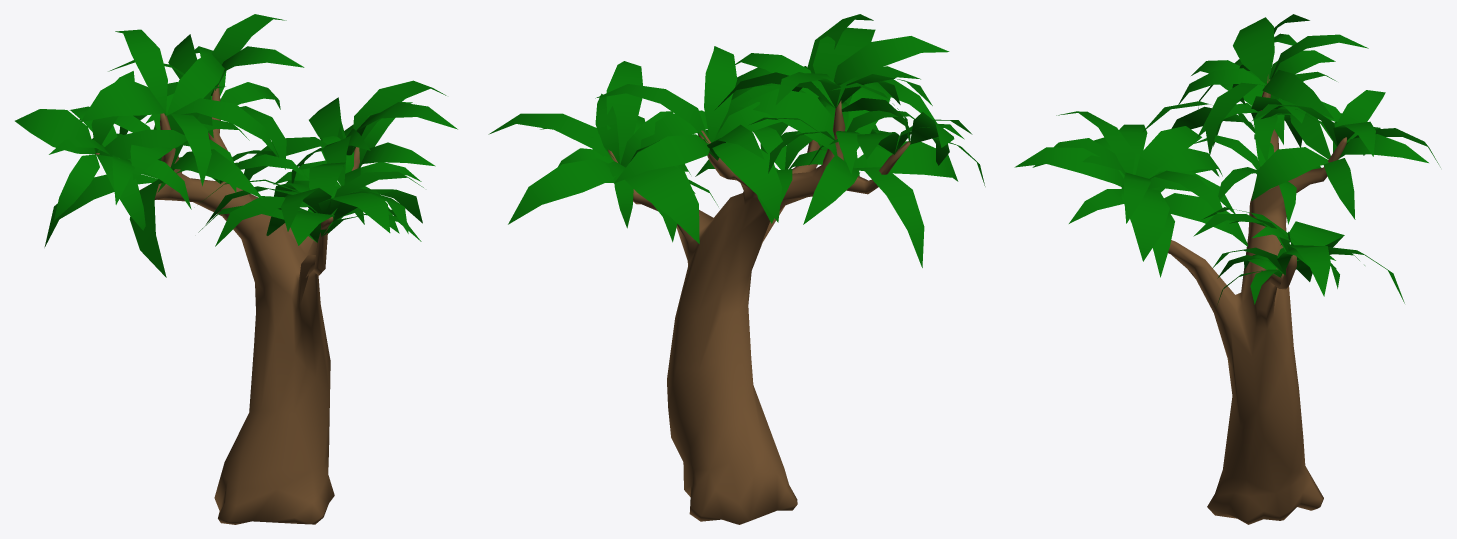
File: SM_RF_CrookedTree_01.fbx
3 renders of one model, left to right at view 1: azimuth 30°, elevation 25°; view 2: azimuth 150°, elevation 25°; view 3: azimuth 270°, elevation 25°, orthographic. The views are drawn at different scales.
Parts seen in each view (by area): view 1: SM_RF_CrookedTree_01; view 2: SM_RF_CrookedTree_01; view 3: SM_RF_CrookedTree_01.
Part boxes in pixels (bbox=[...]): SM_RF_CrookedTree_01: bbox=[15, 14, 457, 524]; SM_RF_CrookedTree_01: bbox=[488, 14, 985, 524]; SM_RF_CrookedTree_01: bbox=[1014, 14, 1440, 524].
Bounding box in the file's own units: 2474 × 2518 × 2283.
